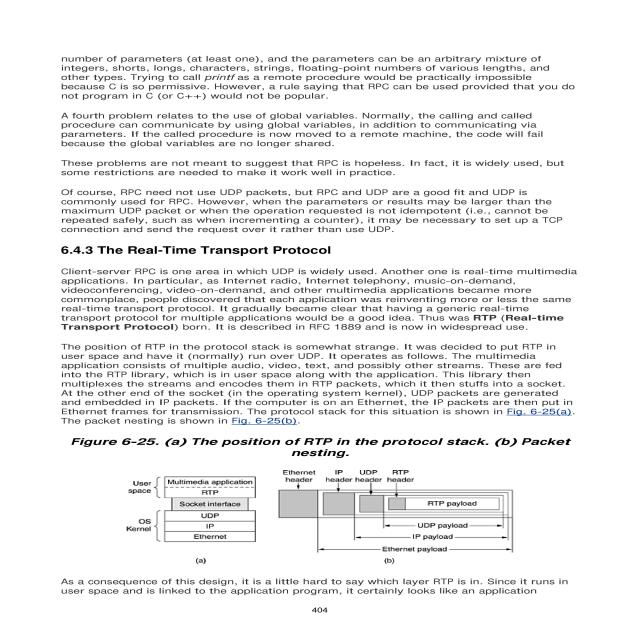diagram: (49, 431, 597, 601), (639, 236, 640, 293)
